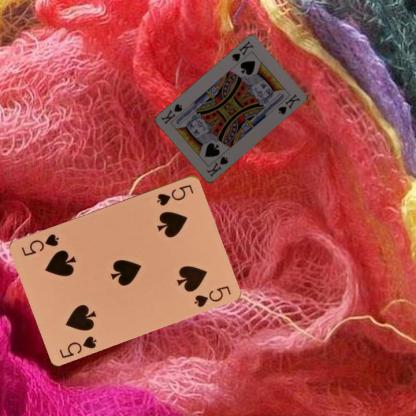5s: (57, 333, 98, 359), (154, 181, 194, 207)
Ks: (229, 39, 255, 63), (204, 154, 229, 178)
